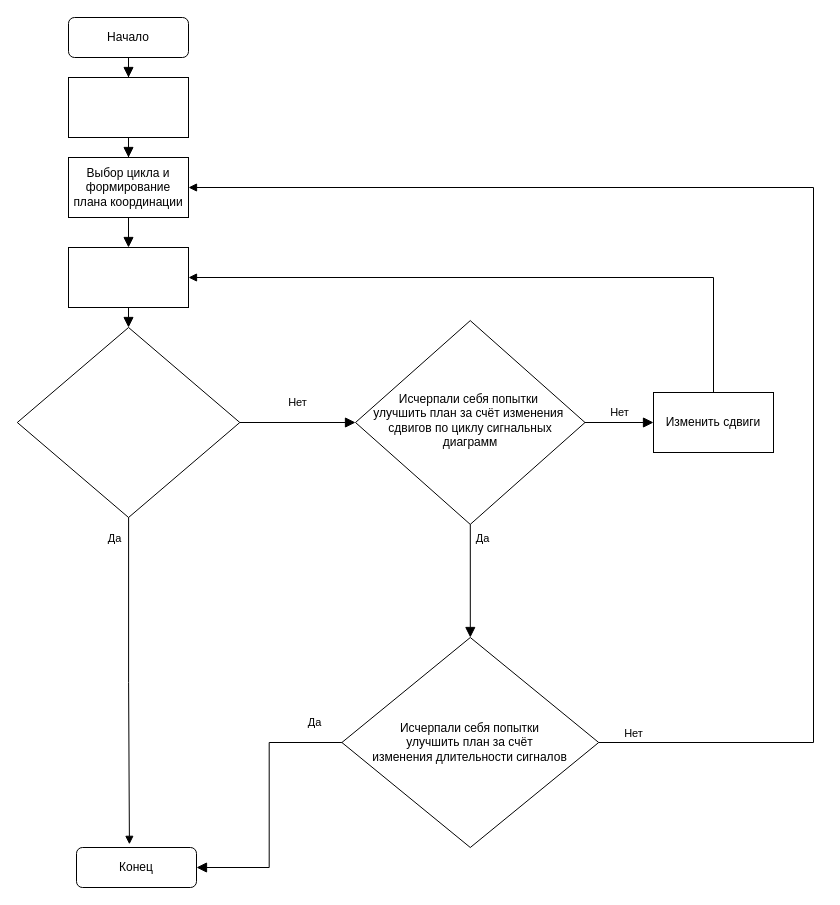
This 840x905 diagram has some shape labels left out. Here are the shapes that lost their labels. From the top down, the box of each, then its label:
(68, 76, 188, 138): Подготовить базовый шаблон плана координации
(68, 246, 188, 308): Графическое представление и оценка плана
(16, 326, 240, 518): Удовлетворителен ли план по базовым показателям?
